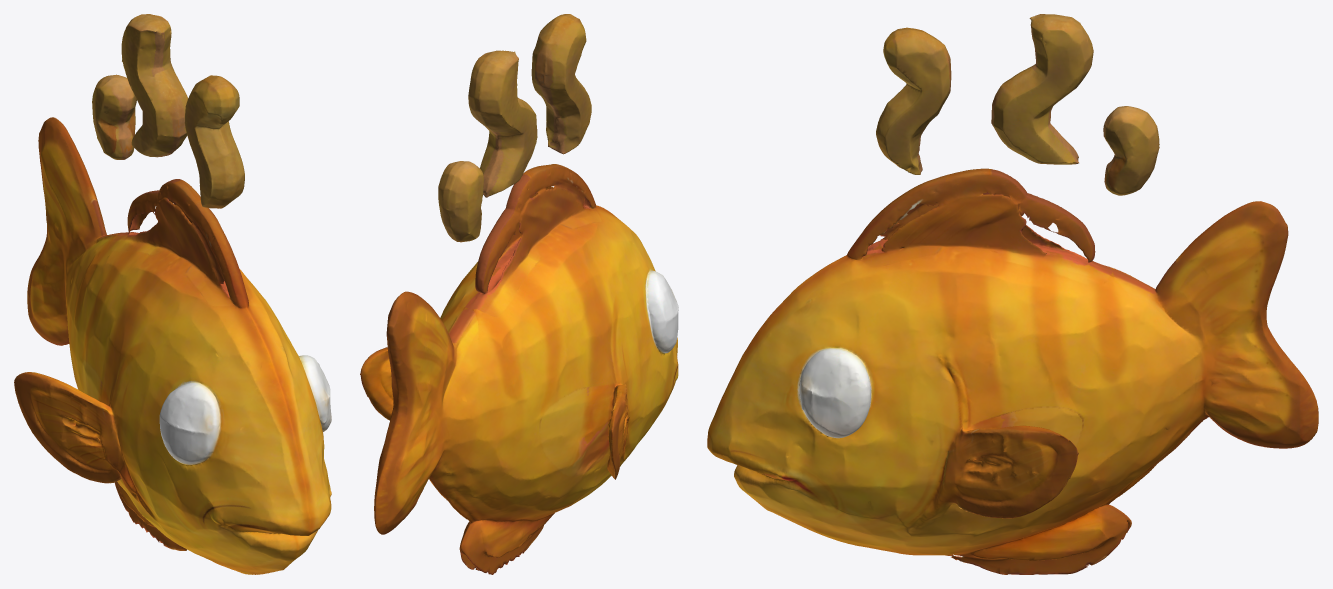
File: cookedfish.glb
3 renders of one model, left to right at view 1: azimuth 30°, elevation 25°; view 2: azimuth 150°, elevation 25°; view 3: azimuth 270°, elevation 25°, orthographic. The views are drawn at different scales.
Bounding box in the file's own units: 1.03 × 2 × 1.99.
Materials: 1 (1 with a texture image).
